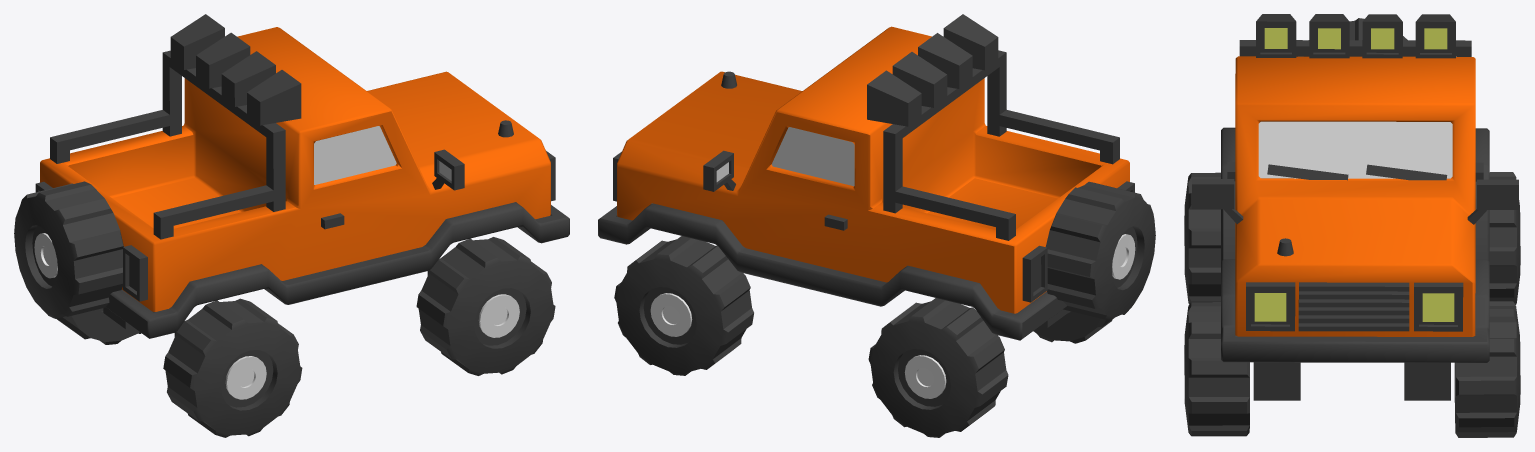
Rendered from bruno-isaac-truck.glb.
The picture shows the model from 3 angles, left to right: view 1: azimuth 30°, elevation 25°; view 2: azimuth 150°, elevation 25°; view 3: azimuth 270°, elevation 25°; orthographic projection. The views are drawn at different scales.
Parts seen in each view (by area): view 1: shadeRed_002, tireRR3, tireFR2, shadeBlack_022, shadeBlack_019, shadeBlack_009, shadeWhite.001, shadeBlack_015, shadeBlack_010, shadeBlack_013, shadeBlack_014, tireRl4 (+5 smaller); view 2: shadeRed_002, tireRl4, tireFL1, shadeBlack_022, shadeBlack_019, shadeBlack_009, shadeWhite.001, shadeBlack_010, shadeBlack_013, shadeBlack_015, shadeBlack_014, tireRR3 (+5 smaller); view 3: shadeRed_002, shadeBlack_022, shadeWhite.001, tireFR2, tireFL1, shadeBlack_008, tireRR3, tireRl4, axelBlockFR2, axelBlockFL1, shadeBlack_002, shadeBlack_007 (+16 smaller).
Boxes of the visible parts, <box> form: shadeRed_002: <box>40,27,550,311</box>; tireRR3: <box>163,298,302,437</box>; tireFR2: <box>416,237,555,375</box>; shadeBlack_022: <box>106,202,569,338</box>; shadeBlack_019: <box>14,181,123,318</box>; shadeBlack_009: <box>50,50,285,239</box>; shadeWhite.001: <box>314,126,396,184</box>; shadeBlack_015: <box>247,70,301,125</box>; shadeBlack_010: <box>170,14,224,69</box>; shadeBlack_013: <box>196,32,250,88</box>; shadeBlack_014: <box>221,51,275,106</box>; tireRl4: <box>56,308,141,344</box>; shadeRed_002: <box>617,26,1129,313</box>; tireRl4: <box>868,298,1008,437</box>; tireFL1: <box>614,236,753,375</box>; shadeBlack_022: <box>598,203,1066,340</box>; shadeBlack_019: <box>1045,181,1155,320</box>; shadeBlack_009: <box>883,50,1119,240</box>; shadeWhite.001: <box>771,127,854,186</box>; shadeBlack_010: <box>867,70,921,126</box>; shadeBlack_013: <box>892,52,947,107</box>; shadeBlack_015: <box>943,14,998,70</box>; shadeBlack_014: <box>918,33,972,88</box>; tireRR3: <box>1033,311,1112,343</box>; shadeRed_002: <box>1235,56,1475,336</box>; shadeBlack_022: <box>1221,127,1489,362</box>; shadeWhite.001: <box>1258,121,1452,178</box>; tireFR2: <box>1184,302,1249,436</box>; tireFL1: <box>1454,301,1520,437</box>; shadeBlack_008: <box>1298,282,1409,331</box>; tireRR3: <box>1184,172,1220,304</box>; tireRl4: <box>1489,172,1520,304</box>; axelBlockFR2: <box>1253,362,1300,400</box>; axelBlockFL1: <box>1404,362,1450,400</box>; shadeBlack_002: <box>1414,282,1463,331</box>; shadeBlack_007: <box>1246,282,1295,331</box>.
Bounding box in the file's own units: 2.03 × 1.29 × 1.21.
